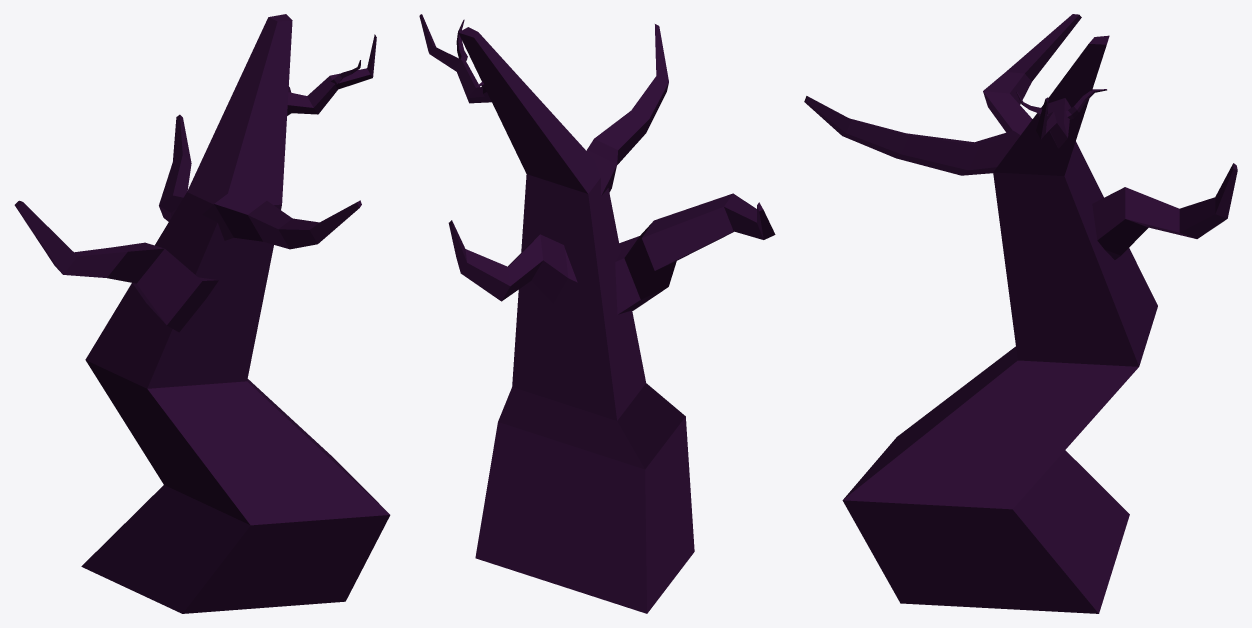
File: BlackTree1.fbx
3 renders of one model, left to right at view 1: azimuth 30°, elevation 25°; view 2: azimuth 150°, elevation 25°; view 3: azimuth 270°, elevation 25°, orthographic. The views are drawn at different scales.
Parts seen in each view (by area): view 1: DarkTree2; view 2: DarkTree2; view 3: DarkTree2.
Boxes of the visible parts, box(x1,y1,x2,y2) form: DarkTree2: box(14, 14, 390, 613); DarkTree2: box(419, 14, 775, 613); DarkTree2: box(804, 14, 1237, 613).
Size of the model in its own units: 396 by 558 by 380.
